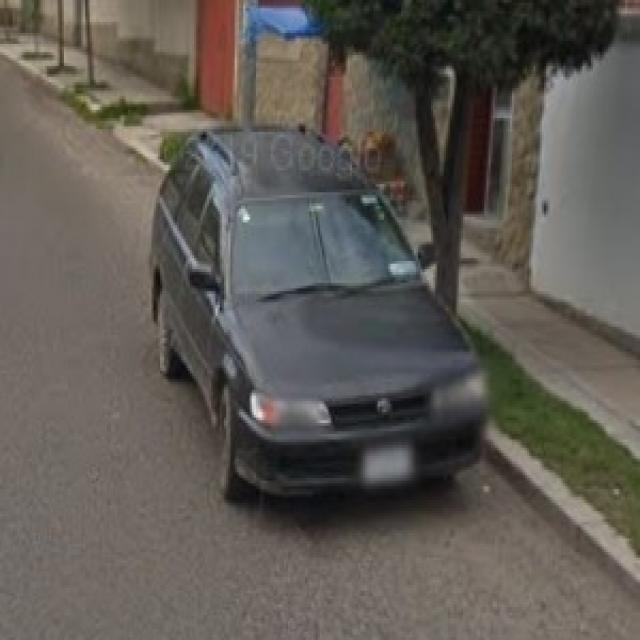Car: (140, 112, 499, 527)
